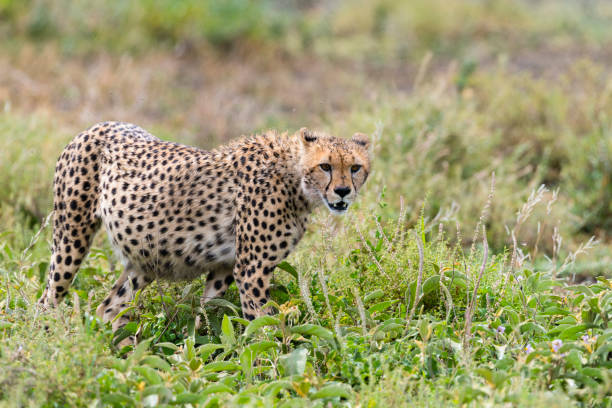cheetah: (297, 118, 379, 224)
